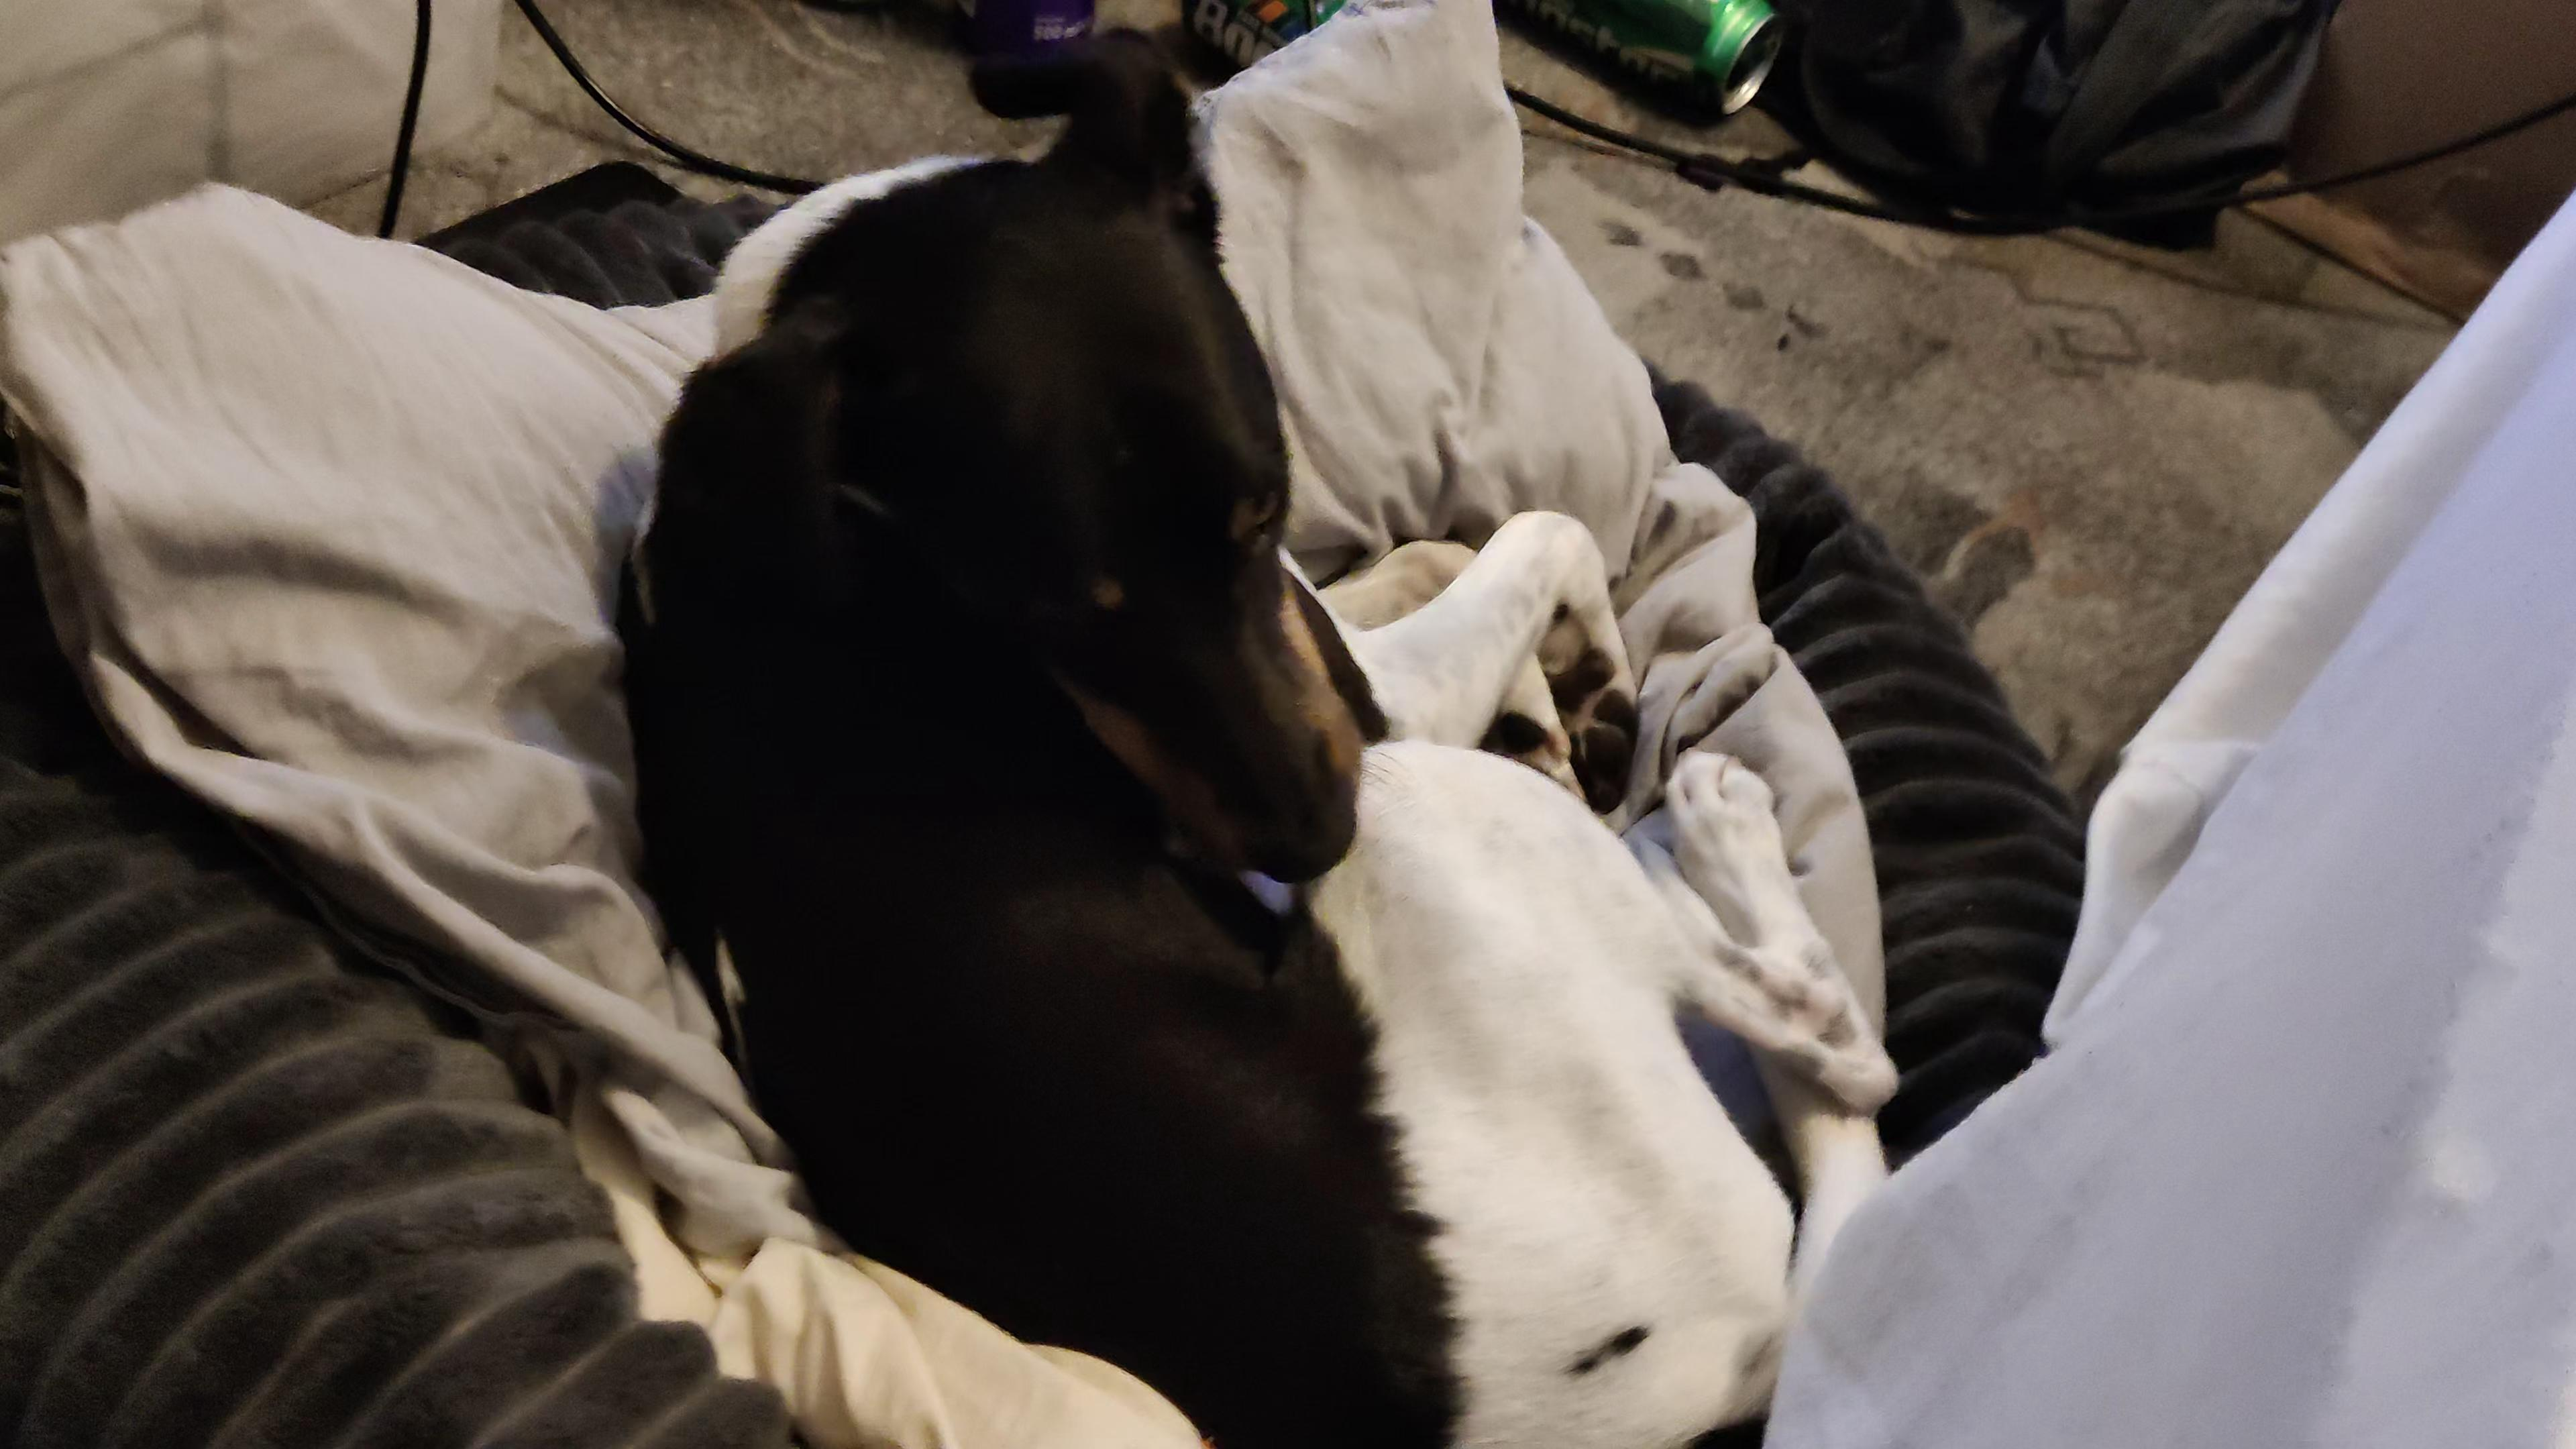Dog: (603, 25, 1911, 1449)
